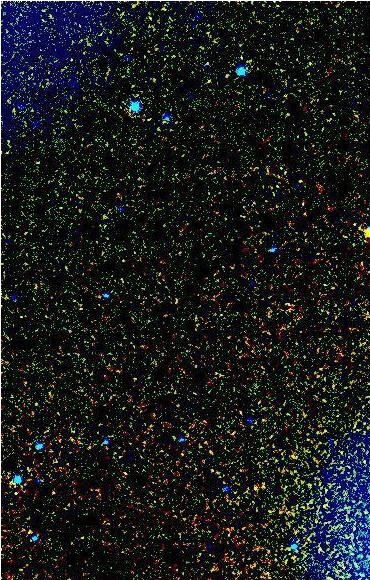star: (3, 479, 33, 509)
